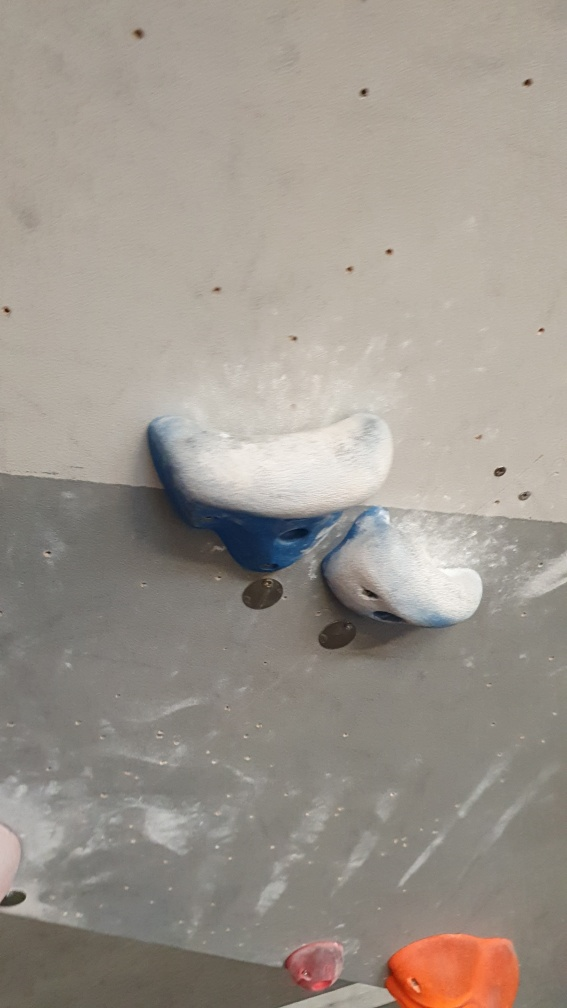Hand Start: (236, 569, 295, 618), (313, 612, 359, 660)
Jug: (138, 404, 399, 574), (321, 503, 486, 634)
